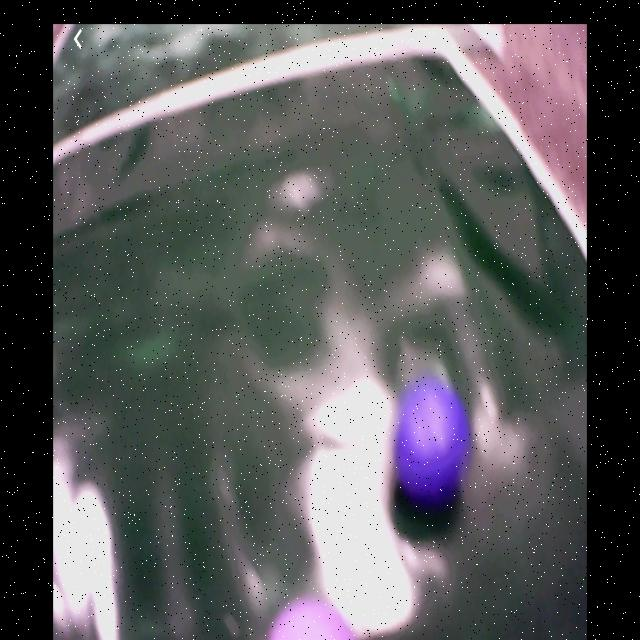ball: (392, 376, 470, 497), (269, 593, 360, 640)
